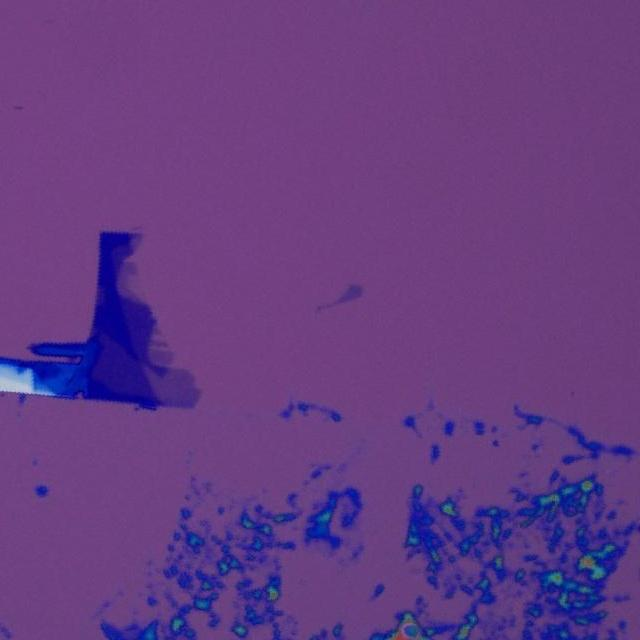monolayer-eWW4: (147, 328, 201, 404), (116, 259, 140, 299)
